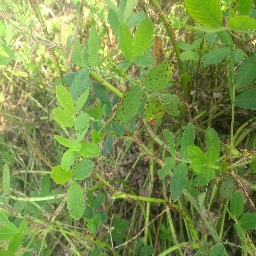GroundNut_Leaf: (113, 85, 142, 123), (145, 60, 174, 93), (228, 1, 256, 35), (1, 218, 28, 253), (53, 86, 75, 128), (184, 1, 222, 25), (234, 54, 256, 90), (137, 18, 154, 59), (172, 161, 188, 204), (87, 25, 101, 72), (118, 22, 133, 62), (179, 124, 196, 158), (68, 185, 83, 222), (203, 127, 220, 159), (54, 134, 80, 151), (49, 166, 74, 183), (81, 142, 101, 159), (73, 41, 85, 68), (230, 193, 242, 218), (236, 93, 256, 107), (4, 163, 11, 200)
